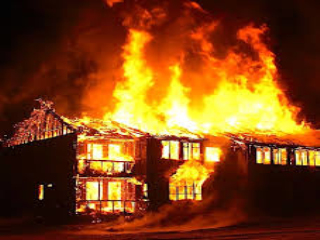fire: (84, 18, 312, 183)
